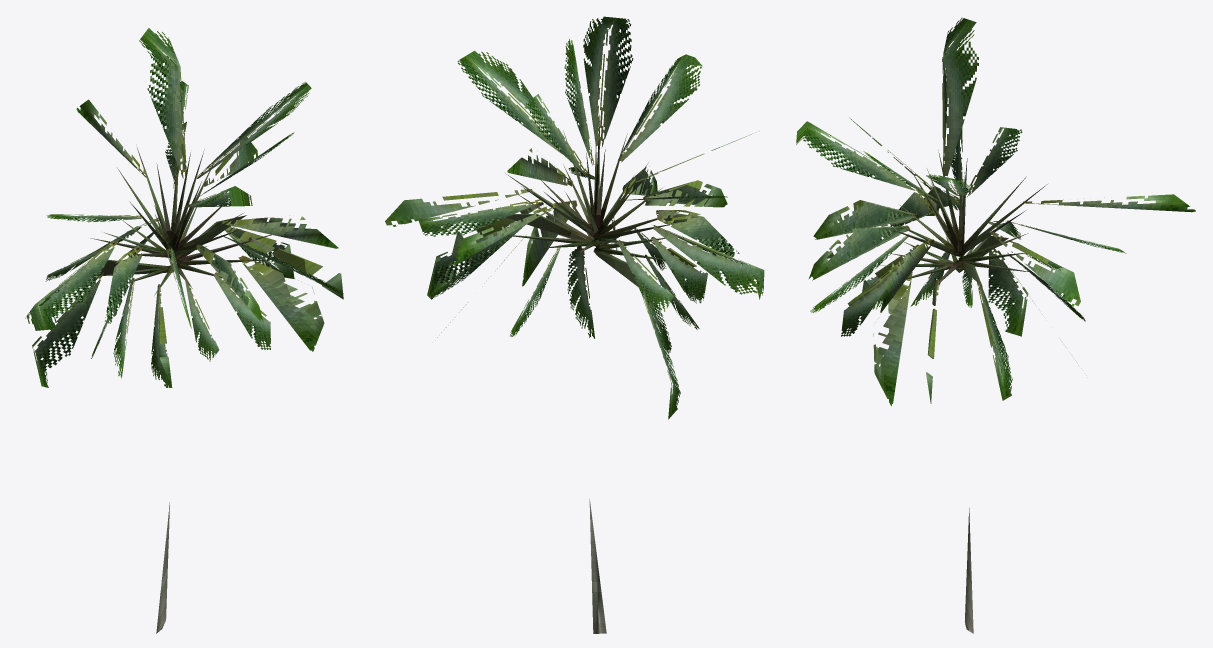
Rendered from palm-young-b.lod1.glb.
3 views of the same model, side by side, from view 1: azimuth 30°, elevation 25°; view 2: azimuth 150°, elevation 25°; view 3: azimuth 270°, elevation 25° (orthographic). The views are drawn at different scales.
Visible parts, largest first — view 1: SM_MZRa_Palm_B083_MI_MZRa_Palm_B08a_0, SM_MZRa_Palm_B083_MI_MZRa_Palm_B08b_0; view 2: SM_MZRa_Palm_B083_MI_MZRa_Palm_B08a_0, SM_MZRa_Palm_B083_MI_MZRa_Palm_B08b_0; view 3: SM_MZRa_Palm_B083_MI_MZRa_Palm_B08a_0, SM_MZRa_Palm_B083_MI_MZRa_Palm_B08b_0.
Part boxes in pixels (x1,y1,x2,y2): SM_MZRa_Palm_B083_MI_MZRa_Palm_B08a_0: (25, 28, 343, 387); SM_MZRa_Palm_B083_MI_MZRa_Palm_B08b_0: (90, 147, 271, 633); SM_MZRa_Palm_B083_MI_MZRa_Palm_B08a_0: (385, 16, 764, 419); SM_MZRa_Palm_B083_MI_MZRa_Palm_B08b_0: (494, 115, 681, 633); SM_MZRa_Palm_B083_MI_MZRa_Palm_B08a_0: (796, 17, 1195, 406); SM_MZRa_Palm_B083_MI_MZRa_Palm_B08b_0: (879, 150, 1047, 633).
Size of the model in its own units: 2.93 by 5.36 by 3.21.
2 materials, 2 textured.
